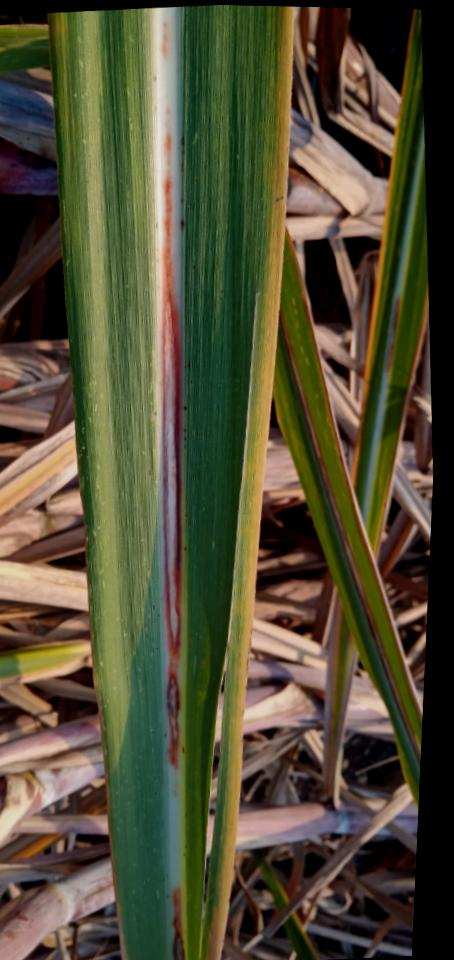RedRot: (158, 101, 185, 801), (171, 886, 185, 960), (161, 18, 167, 63)
